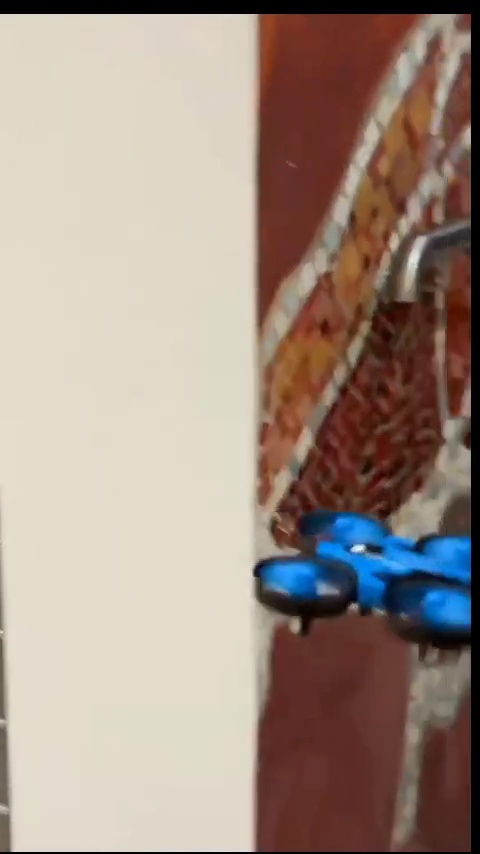drone: (257, 515, 471, 658)
